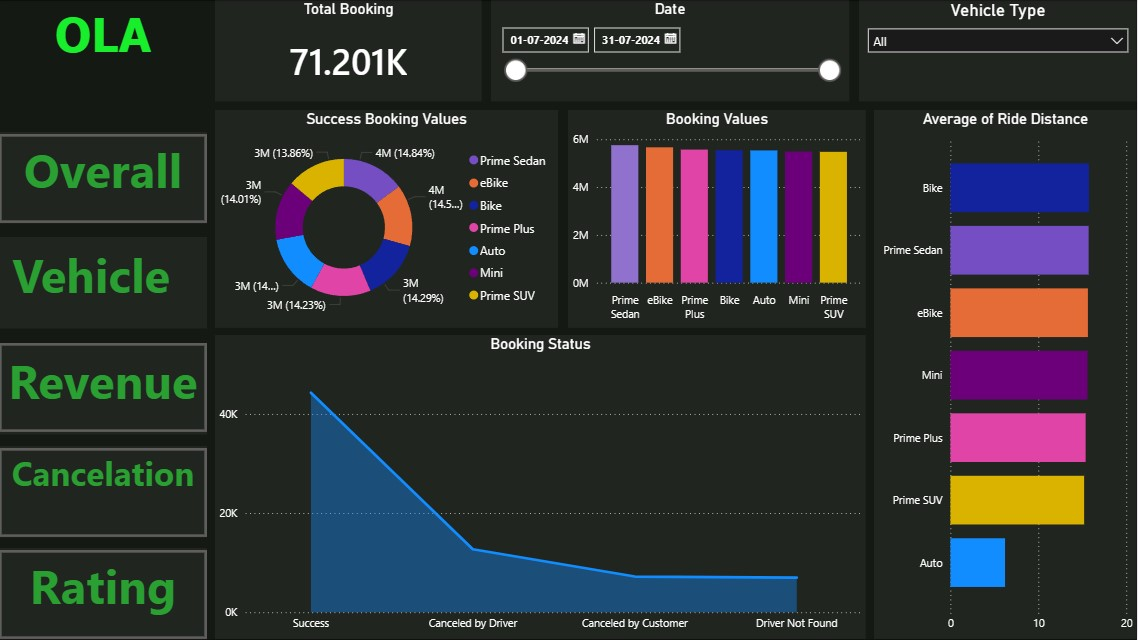

The dashboard page shown, as its layout file describes it:
{"tool":"powerbi","page":{"name":"Vehicle","canvas":[1280,720],"ordinal":1},"visuals":[{"type":"textbox","box":[0,0,234.2,103.9],"z":0},{"type":"textbox","box":[0,267.1,234.2,102.6],"z":1000},{"type":"textbox","box":[0,385.4,234.2,102.6],"z":2000},{"type":"textbox","box":[0,617,234.2,102.6],"z":3000},{"type":"textbox","box":[0,501.2,234.2,102.6],"z":4000},{"type":"textbox","box":[0,148.7,234.2,102.6],"z":5000},{"type":"slicer","title":"Date","fields":{"Values":["cleaned_bookings.Date"]},"box":[553.5,0,402.8,113.6],"z":6000},{"type":"cardVisual","title":"Total Booking","fields":{"Data":["CountNonNull(cleaned_bookings.Booking_ID)"]},"box":[243,0,300.4,113.6],"z":7000},{"type":"actionButton","box":[0,150.8,234,100.1],"z":8000},{"type":"actionButton","box":[0,385.9,234,100.1],"z":9000},{"type":"actionButton","box":[0,504,234,100.1],"z":10000},{"type":"actionButton","box":[0,618.8,234,100.1],"z":11000},{"type":"donutChart","title":"Success Booking Values","fields":{"Category":["cleaned_bookings.Vehicle_Type"],"Y":["Sum(cleaned_bookings.Booking Sucess Values)"]},"box":[243,123.8,385.9,245.2],"z":12000},{"type":"columnChart","title":"Booking Values","fields":{"Category":["cleaned_bookings.Vehicle_Type"],"Y":["Sum(cleaned_bookings.Booking_Value)"]},"box":[640.1,123.8,335.2,245.2],"z":13000},{"type":"slicer","title":"Vehicle Type","fields":{"Values":["cleaned_bookings.Vehicle_Type"]},"box":[967.5,0,312.8,113.6],"z":14000},{"type":"clusteredBarChart","title":"Average of Ride Distance","fields":{"Category":["cleaned_bookings.Vehicle_Type"],"Y":["Avg(cleaned_bookings.Ride_Distance)"]},"box":[984.4,123.8,295.9,595.1],"z":15000},{"type":"stackedAreaChart","title":"Booking Status","fields":{"Category":["cleaned_bookings.Booking_Status"],"Y":["CountNonNull(cleaned_bookings.Booking_ID)"]},"box":[243,376.9,732.4,342],"z":16000}]}

Visuals, with their boxes in screenshot pixels (x1, y1, x2, y2), scaled from the page's 1280x720 canvas onto the 1138x640 screenshot:
textbox: region(0, 0, 208, 92)
textbox: region(0, 237, 208, 329)
textbox: region(0, 343, 208, 434)
textbox: region(0, 548, 208, 639)
textbox: region(0, 446, 208, 537)
textbox: region(0, 132, 208, 223)
"Date" slicer: region(492, 0, 850, 101)
"Total Booking" cardVisual: region(216, 0, 483, 101)
actionButton: region(0, 134, 208, 223)
actionButton: region(0, 343, 208, 432)
actionButton: region(0, 448, 208, 537)
actionButton: region(0, 550, 208, 639)
"Success Booking Values" donutChart: region(216, 110, 559, 328)
"Booking Values" columnChart: region(569, 110, 867, 328)
"Vehicle Type" slicer: region(860, 0, 1137, 101)
"Average of Ride Distance" clusteredBarChart: region(875, 110, 1137, 639)
"Booking Status" stackedAreaChart: region(216, 335, 867, 639)
